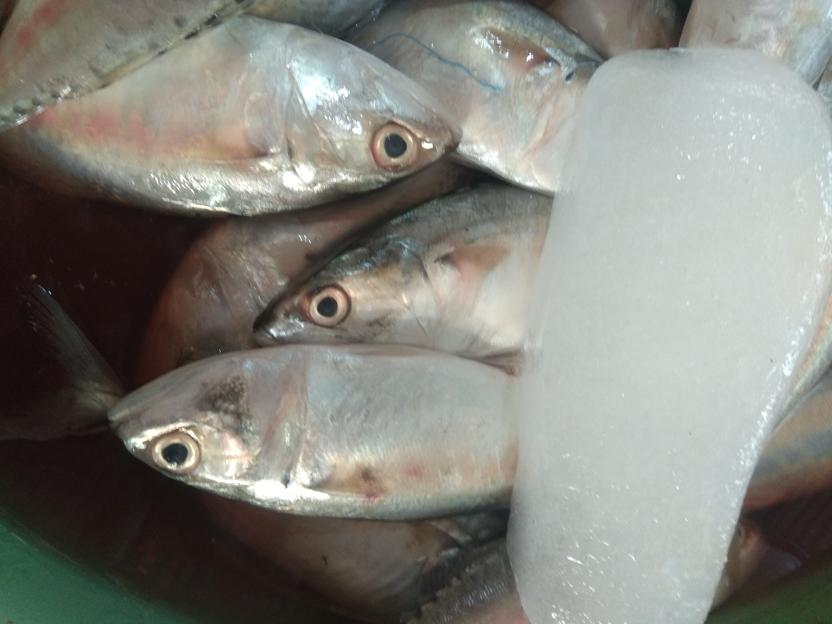Fish head: (249, 27, 463, 199), (109, 349, 307, 508), (250, 242, 446, 349)
Fish tail: (8, 278, 118, 439)
